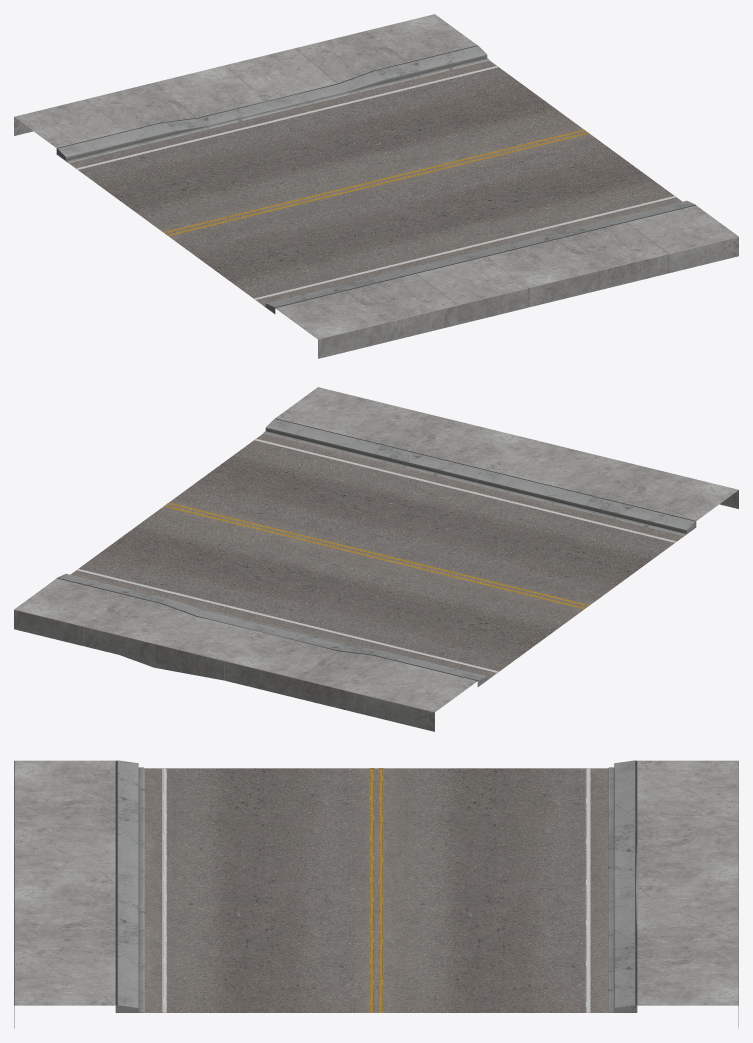
File: Road_2L_VarE.fbx
3 renders of one model, top to bottom at view 1: azimuth 30°, elevation 25°; view 2: azimuth 150°, elevation 25°; view 3: azimuth 270°, elevation 25°, orthographic. The views are drawn at different scales.
Visible parts, largest first — view 1: Road_2L_Vare_LOD0; view 2: Road_2L_Vare_LOD0; view 3: Road_2L_Vare_LOD0.
Part boxes in pixels (left/top/right/bottom): Road_2L_Vare_LOD0: left=14, top=14, right=738, bottom=358; Road_2L_Vare_LOD0: left=14, top=387, right=738, bottom=731; Road_2L_Vare_LOD0: left=14, top=760, right=738, bottom=1028.
Size of what is drawn, in the model's own units: 1000 by 54.42 by 1251.
